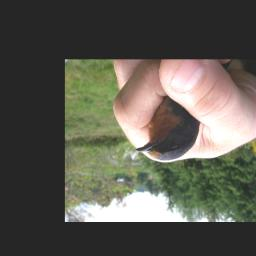Swallow: (133, 95, 202, 162)
